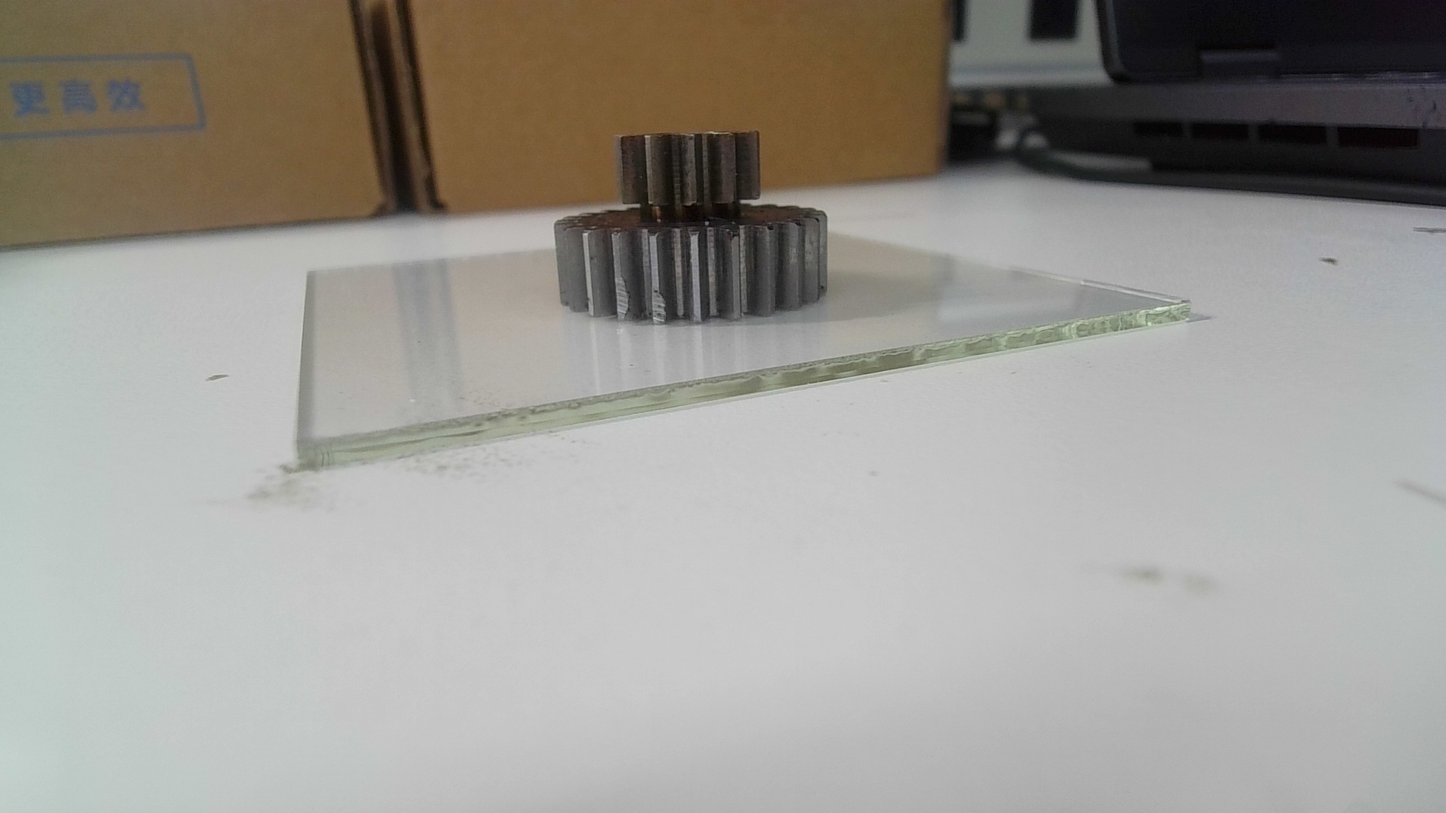gear: (551, 130, 833, 327)
